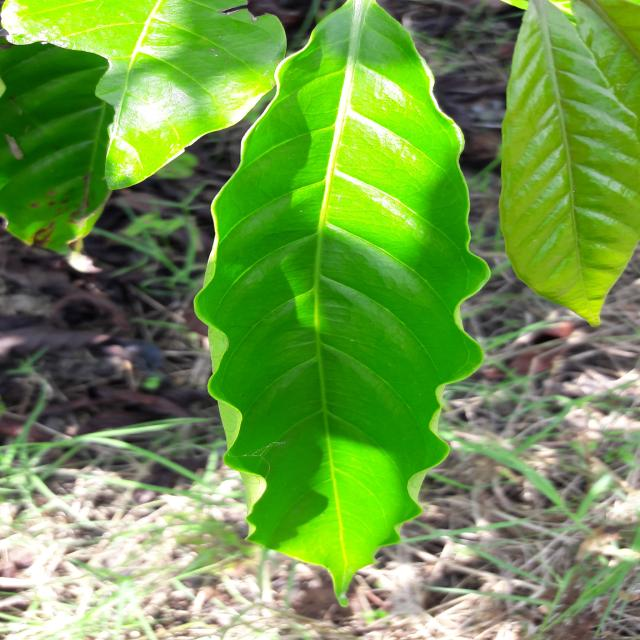Sanas: (201, 0, 492, 602)
